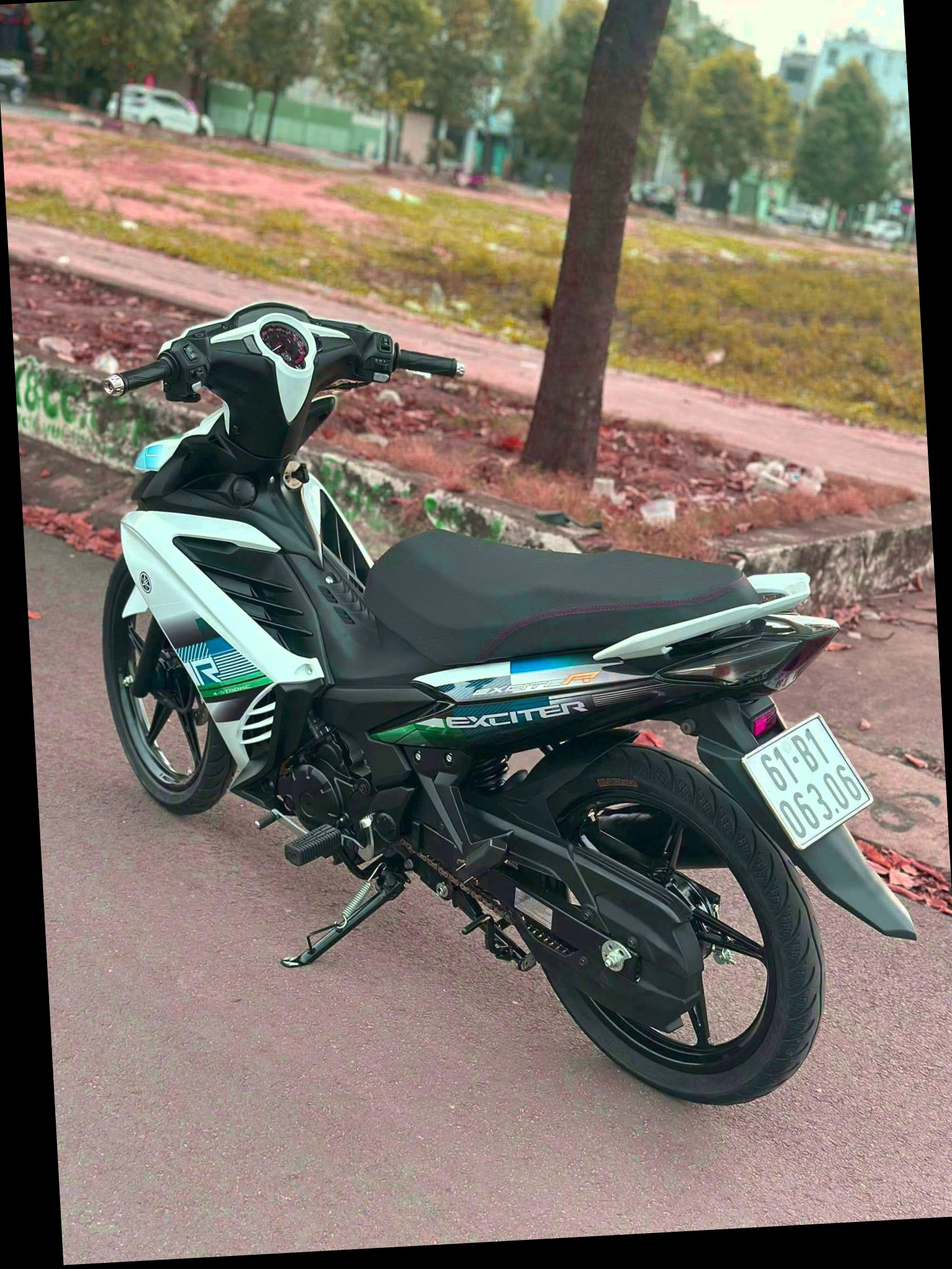Bien-so: (743, 706, 879, 854)
